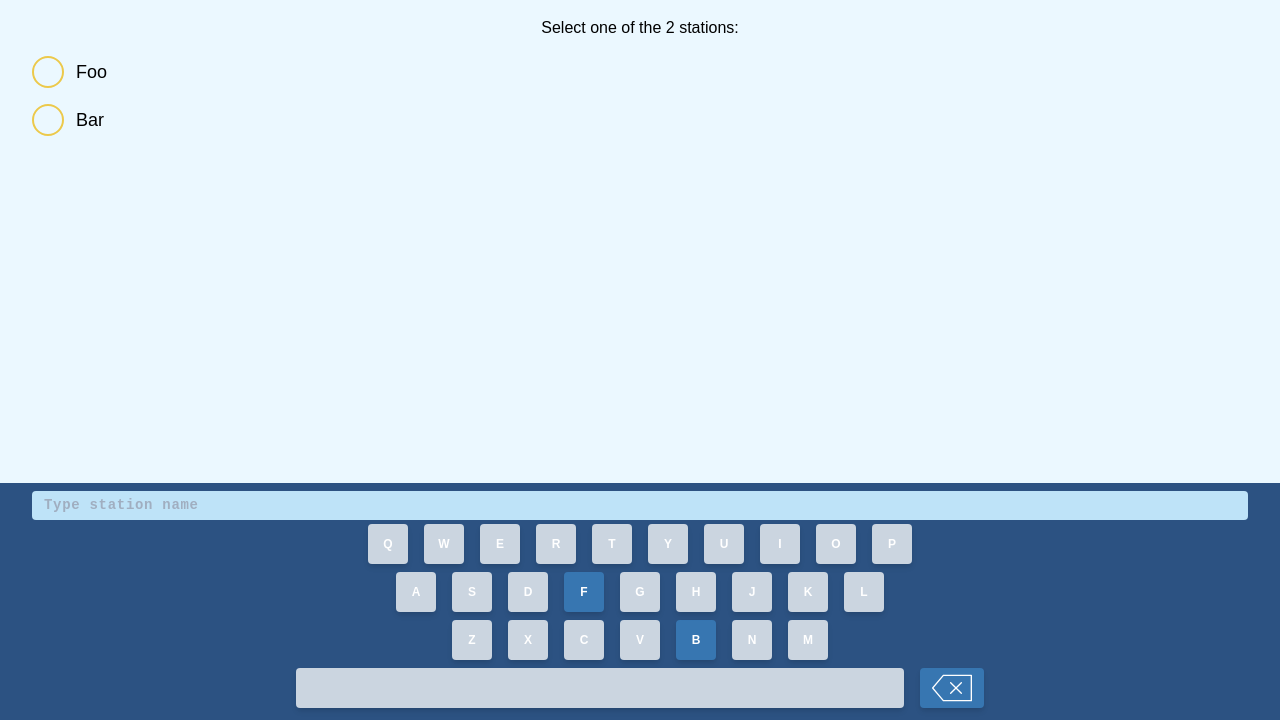
StationChooser › should filter list when user is typing letters on keyboard
The width and height of the screenshot is (1280, 720).
Click the button "F" at point(584, 592), box [564,572,604,612]
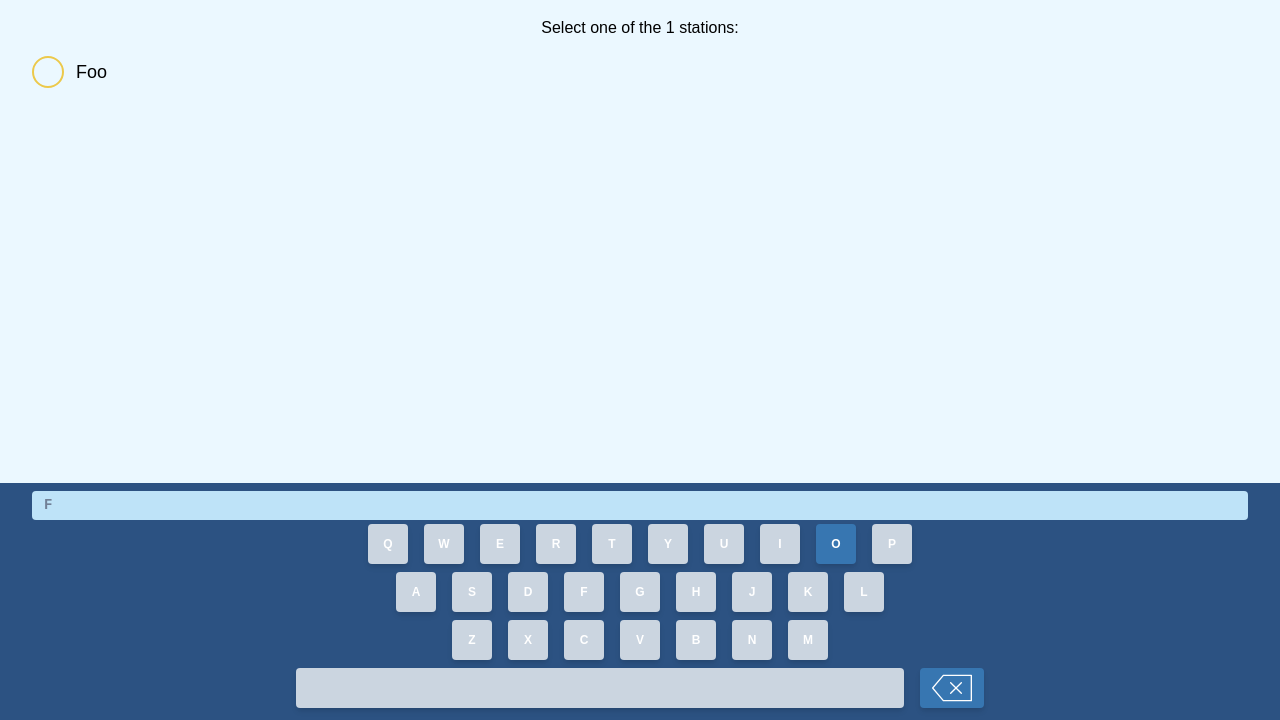
Expected: the field with class "user-input" holds "F", [32,491,1248,520]
